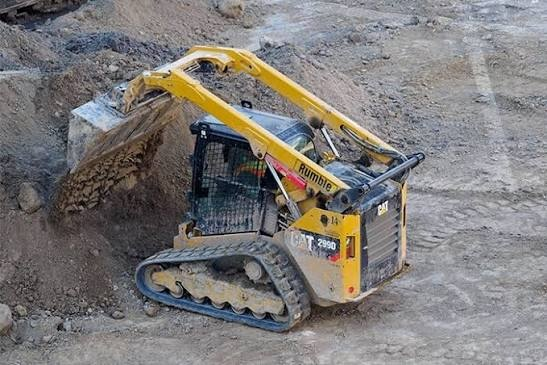machinery: (52, 37, 426, 332)
